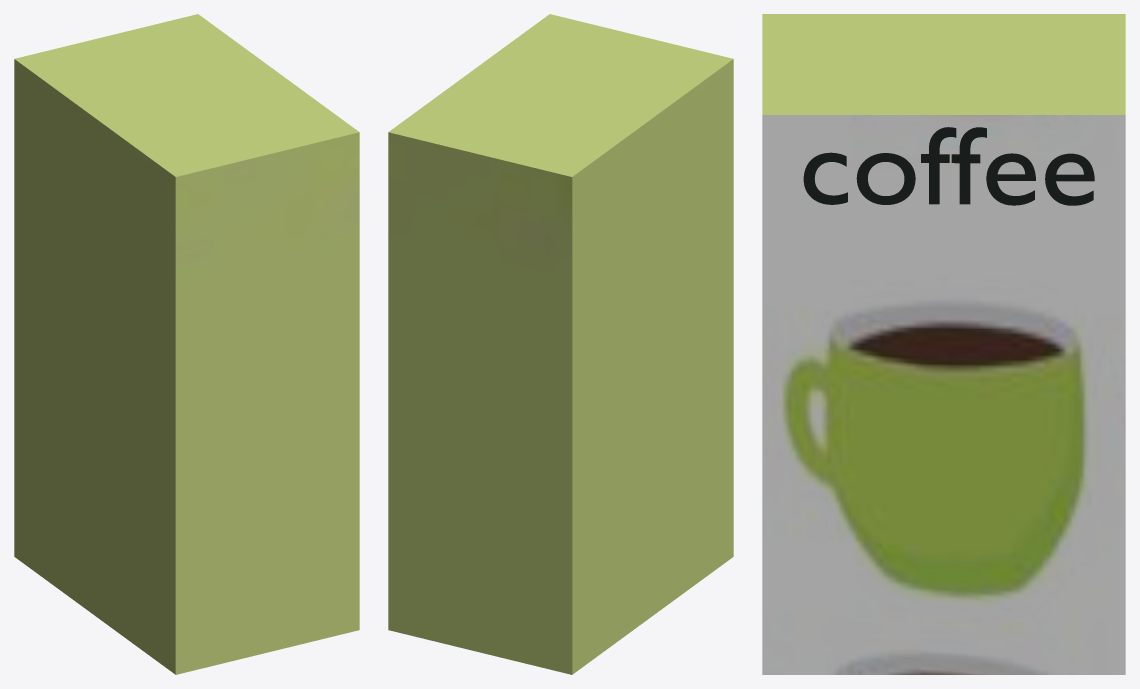
Rendered from coffee 4.fbx.
The picture shows the model from 3 angles, left to right: view 1: azimuth 30°, elevation 25°; view 2: azimuth 150°, elevation 25°; view 3: azimuth 270°, elevation 25°; orthographic projection. The views are drawn at different scales.
Parts seen in each view (by area): view 1: Cube; view 2: Cube; view 3: Cube, Text.
Boxes of the visible parts, <box> form: Cube: <box>14,14,359,674</box>; Cube: <box>388,14,733,674</box>; Cube: <box>762,14,1125,674</box>; Text: <box>803,127,1094,205</box>.
Bounding box in the file's own units: 37.81 × 96.15 × 56.55.
2 materials, 1 textured.
